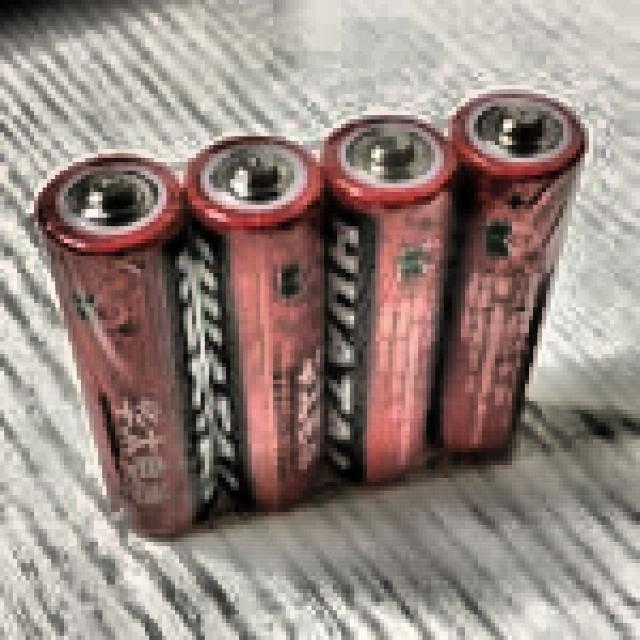battery: (36, 155, 216, 536), (436, 93, 585, 456), (185, 136, 323, 508), (323, 115, 457, 483)
